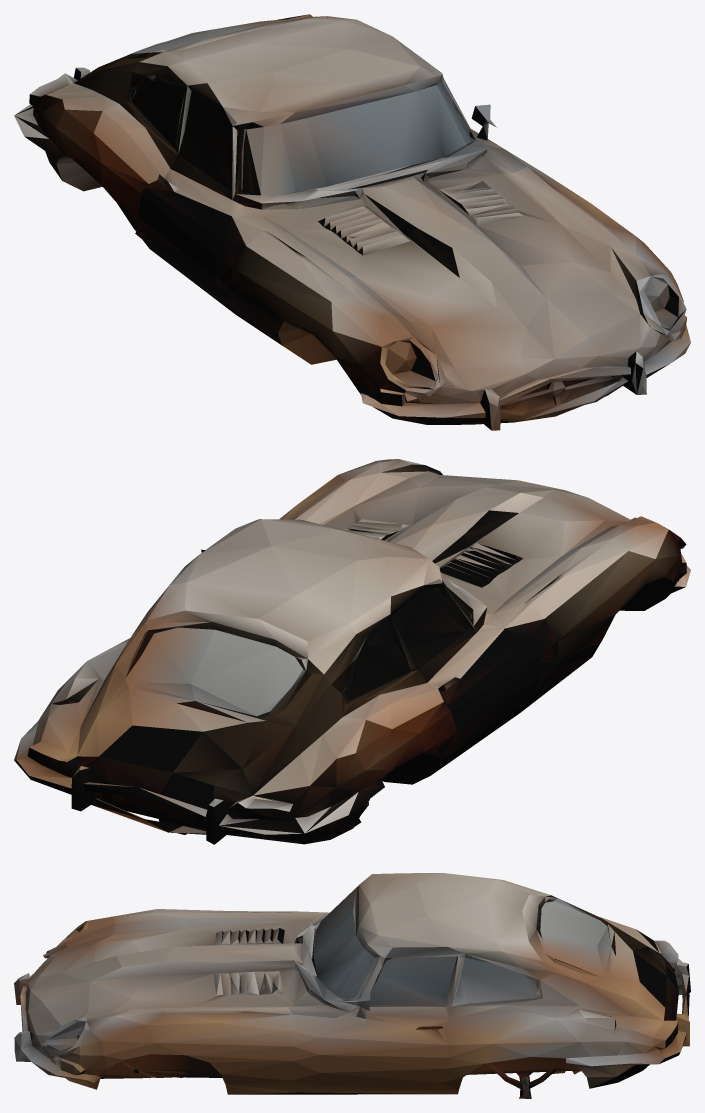
The model's file is jaguar_e_type.glb.
3 renders of one model, top to bottom at view 1: azimuth 30°, elevation 25°; view 2: azimuth 150°, elevation 25°; view 3: azimuth 270°, elevation 25°, orthographic. The views are drawn at different scales.
Visible parts, largest first — view 1: Wreck_jaguar_e_type; view 2: Wreck_jaguar_e_type; view 3: Wreck_jaguar_e_type.
Part boxes in pixels (x1,y1,x2,y2): Wreck_jaguar_e_type: (14,14,690,430); Wreck_jaguar_e_type: (14,459,690,844); Wreck_jaguar_e_type: (14,873,690,1098).
Size of the model in its own units: 2 by 1.17 by 4.45.
